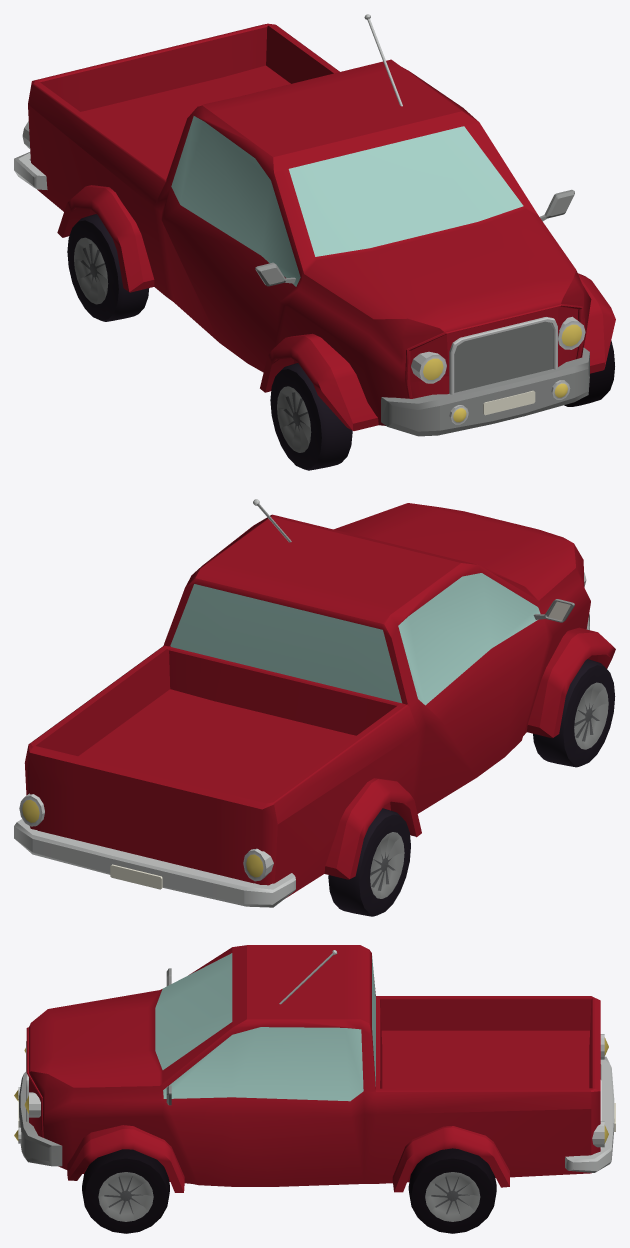
Rendered from Sem4_Prop_Car_LOD_LG.fbx.
The picture shows the model from 3 angles, top to bottom: view 1: azimuth 30°, elevation 25°; view 2: azimuth 150°, elevation 25°; view 3: azimuth 270°, elevation 25°; orthographic projection. The views are drawn at different scales.
Parts seen in each view (by area): view 1: Car_LOD0; view 2: Car_LOD0; view 3: Car_LOD0.
Boxes of the visible parts, <box> form: Car_LOD0: <box>14,14,615,470</box>; Car_LOD0: <box>14,499,615,916</box>; Car_LOD0: <box>14,945,615,1233</box>.
Size of what is drawn, in the model's own units: 261 by 244 by 533.
